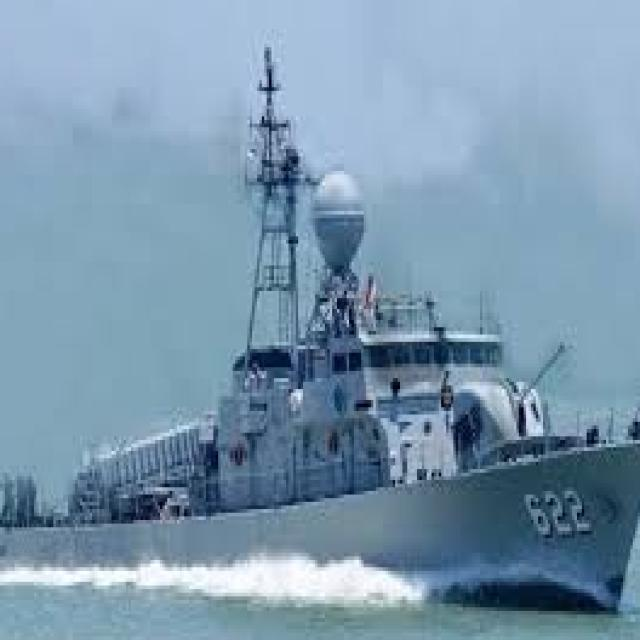navalvessels: (0, 91, 633, 629)
